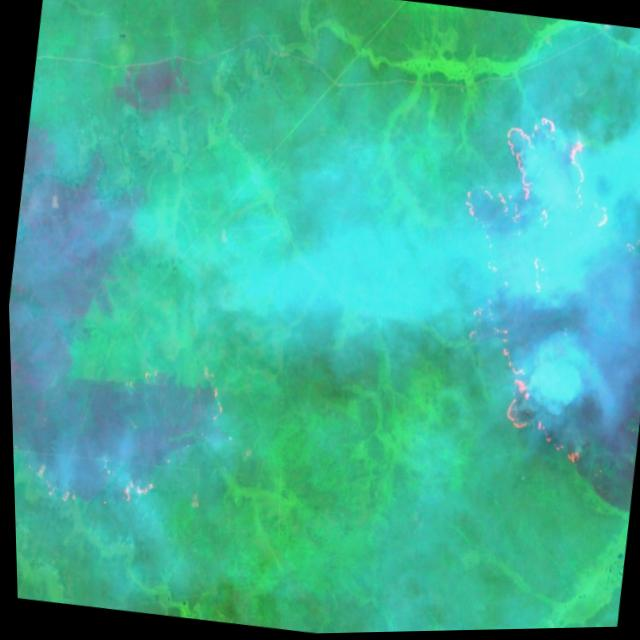fire: (419, 92, 640, 474)
